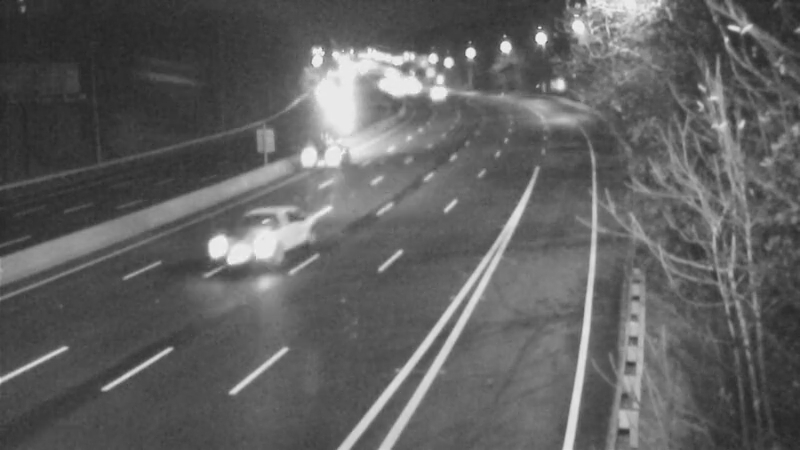vehicle: (285, 118, 365, 198), (221, 203, 301, 283), (412, 67, 462, 117), (367, 64, 417, 114), (315, 88, 365, 138)
